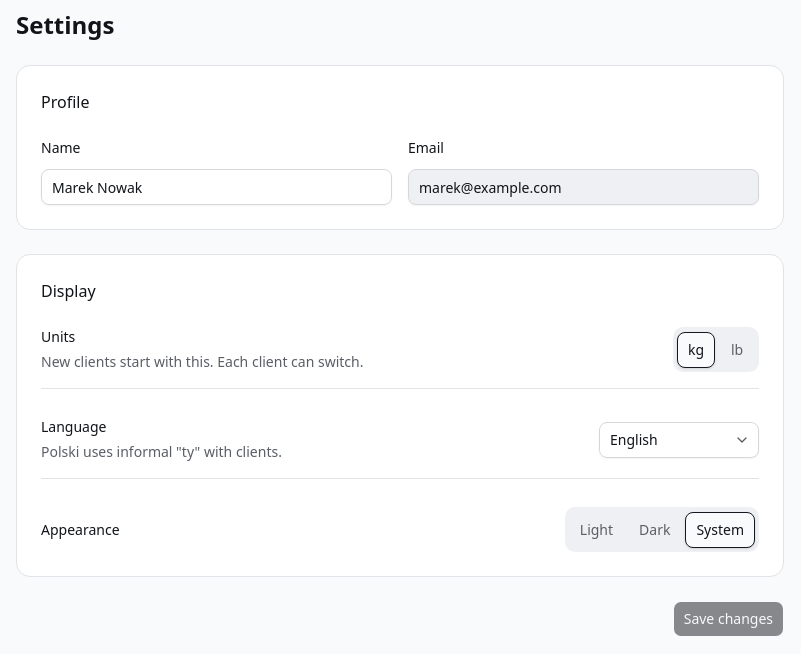
Test case: SettingsPage › drops the confirmation once something changes again
This screenshot has width=801, height=654.
Click the radio button labelled "lb".
click(737, 350)  # box [719,332,755,368]
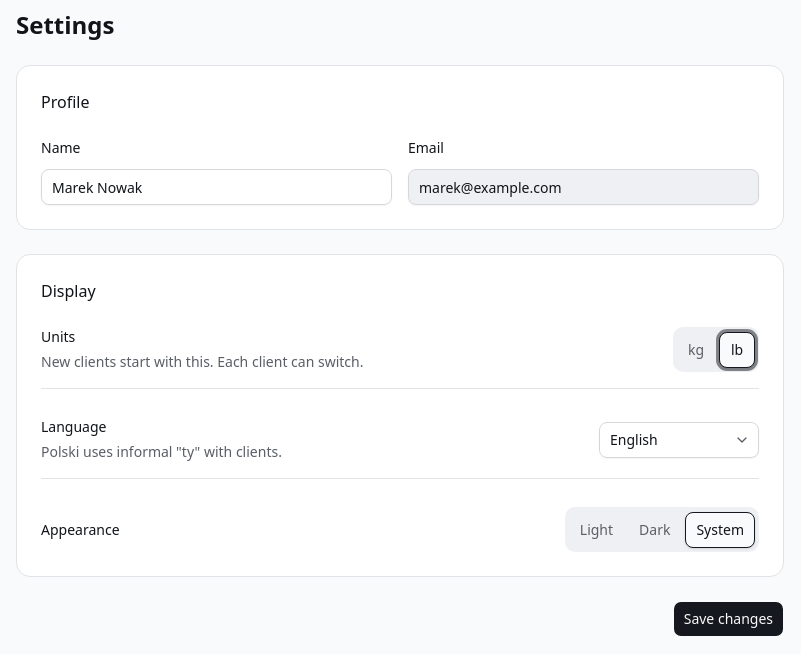
Click the button "Save changes".
click(728, 619)  # box [673,601,784,637]
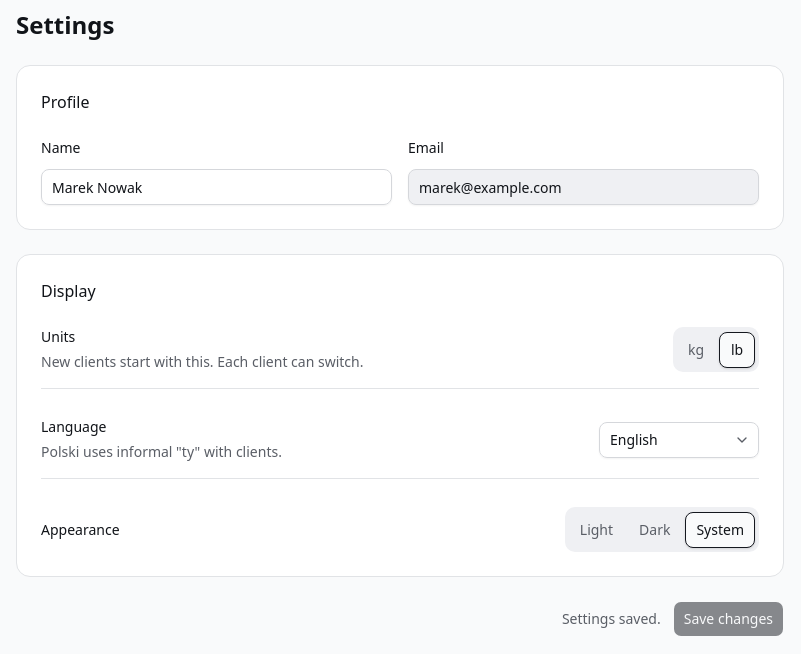
Result: the text "Settings saved." is shown at [562,609,661,629]
Click the radio button labelled "kg".
click(696, 350)  # box [677,332,715,368]
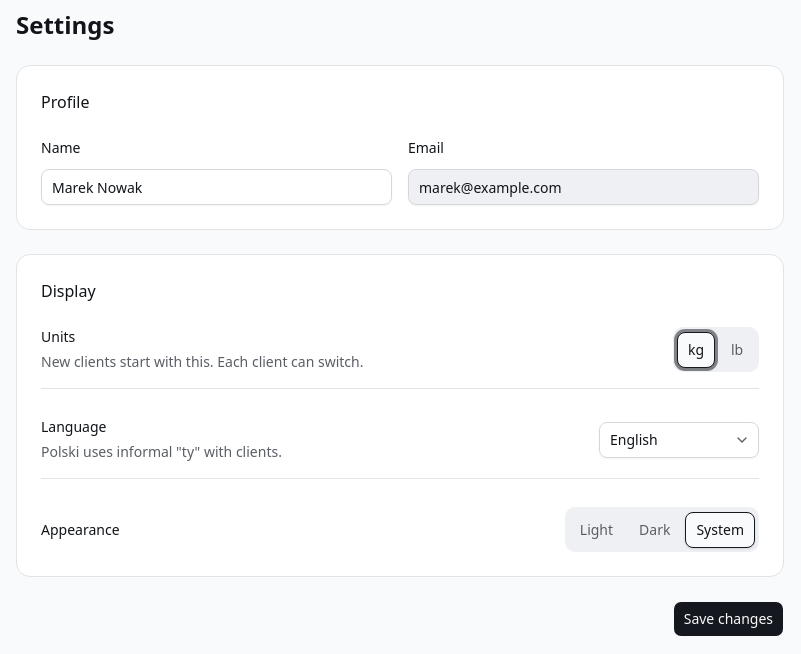
Result: the text "Settings saved." is gone
Result: the button "Save changes" is enabled at [673,601,784,637]
